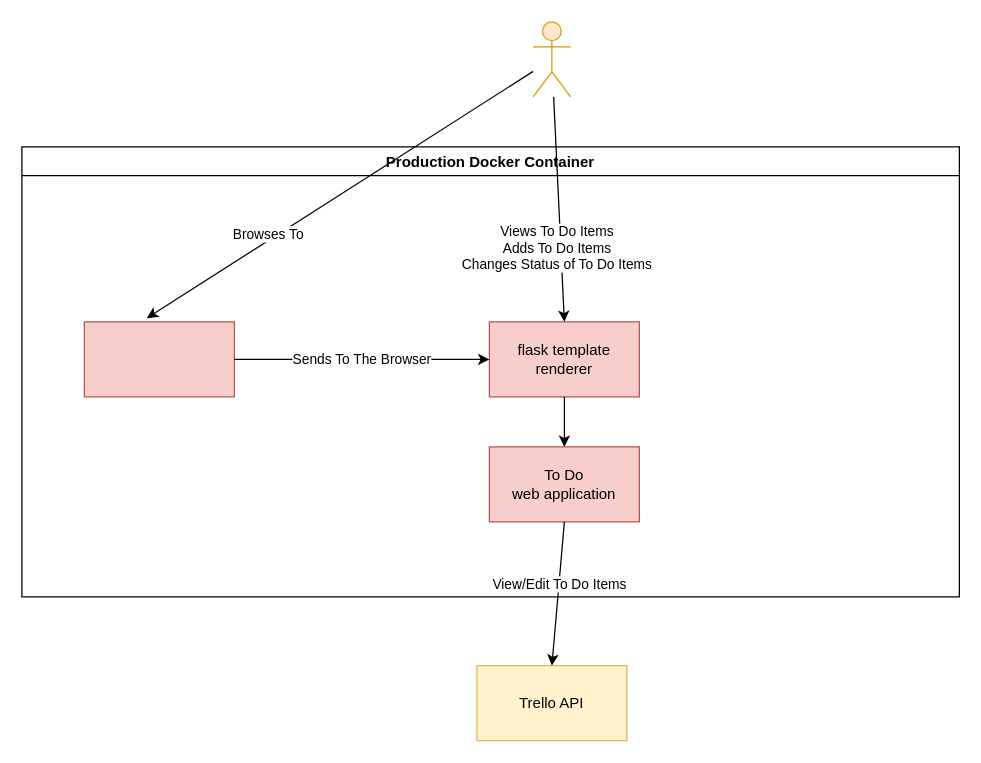
The diagram is 981 pixels wide and 763 high, and some of its shapes have lost their labels. The shapes that lost their labels are listed below. From the top down, each one's box as (x1, y1, x2, y2) in pixels, then its label:
(532, 21, 571, 97): User
(83, 321, 234, 397): gunicorn web application container
